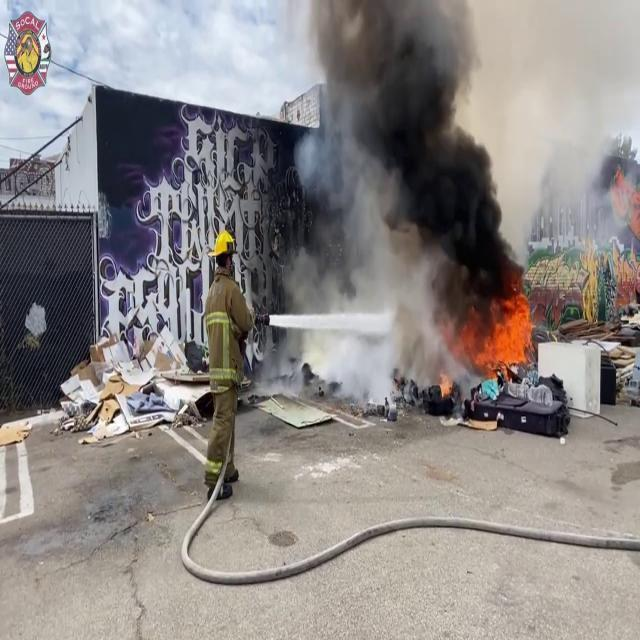Fire: (462, 287, 538, 376)
Smoke: (280, 0, 516, 322), (511, 0, 640, 266)
